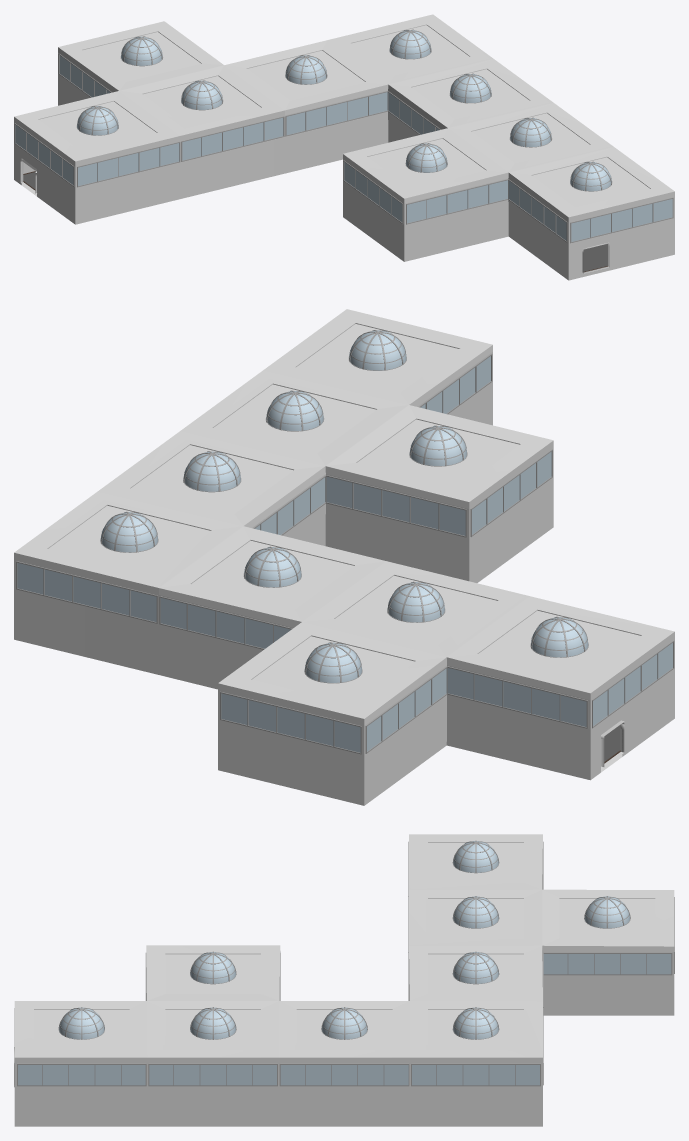
Rendered from wall_edited4.fbx.
3 renders of one model, top to bottom at view 1: azimuth 30°, elevation 25°; view 2: azimuth 150°, elevation 25°; view 3: azimuth 270°, elevation 25°, orthographic. The views are drawn at different scales.
Visible parts, largest first — view 1: wall_2, ceiling, windows, sphere.007, sphere, sphere.005, sphere.004, sphere.001, sphere.008, sphere.006, sphere.003, sphere.002 (+2 smaller); view 2: wall_2, ceiling, windows, sphere.008, sphere.007, sphere.001, sphere.006, sphere.005, sphere.002, sphere.004, sphere.003, sphere; view 3: wall_2, ceiling, windows, sphere, sphere.004, sphere.006, sphere.001, sphere.008, sphere.002, sphere.003, sphere.007, sphere.005.
Boxes of the visible parts, x1=… form: wall_2: x1=14, y1=14, x2=674, y2=280; ceiling: x1=39, y1=25, x2=649, y2=207; windows: x1=14, y1=54, x2=673, y2=243; sphere.007: x1=120, y1=36, x2=162, y2=66; sphere: x1=570, y1=161, x2=612, y2=191; sphere.005: x1=76, y1=106, x2=118, y2=135; sphere.004: x1=181, y1=80, x2=223, y2=110; sphere.001: x1=509, y1=117, x2=552, y2=147; sphere.008: x1=449, y1=73, x2=491, y2=103; sphere.006: x1=389, y1=29, x2=431, y2=59; sphere.003: x1=285, y1=55, x2=327, y2=84; sphere.002: x1=405, y1=143, x2=447, y2=172; wall_2: x1=14, y1=309, x2=674, y2=805; ceiling: x1=48, y1=324, x2=640, y2=704; windows: x1=16, y1=353, x2=674, y2=754; sphere.008: x1=183, y1=451, x2=241, y2=492; sphere.007: x1=304, y1=642, x2=362, y2=683; sphere.001: x1=265, y1=390, x2=324, y2=431; sphere.006: x1=100, y1=511, x2=158, y2=552; sphere.005: x1=530, y1=616, x2=588, y2=657; sphere.002: x1=409, y1=425, x2=467, y2=466; sphere.004: x1=387, y1=581, x2=445, y2=622; sphere.003: x1=243, y1=546, x2=301, y2=587; sphere: x1=348, y1=330, x2=406, y2=370; wall_2: x1=14, y1=834, x2=674, y2=1126; ceiling: x1=34, y1=843, x2=655, y2=1049; windows: x1=14, y1=841, x2=674, y2=1086; sphere: x1=58, y1=1007, x2=104, y2=1039; sphere.004: x1=452, y1=896, x2=499, y2=928; sphere.006: x1=452, y1=1007, x2=499, y2=1039; sphere.001: x1=190, y1=1007, x2=236, y2=1039; sphere.008: x1=321, y1=1007, x2=367, y2=1039; sphere.002: x1=190, y1=951, x2=236, y2=984; sphere.003: x1=452, y1=951, x2=499, y2=984; sphere.007: x1=584, y1=896, x2=630, y2=928; sphere.005: x1=452, y1=840, x2=499, y2=873.
Bounding box in the file's own units: 4040 × 753 × 5031.
